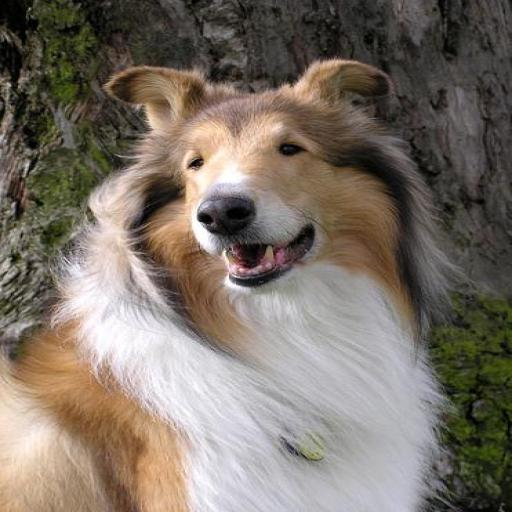dog_face: (115, 62, 379, 300)
